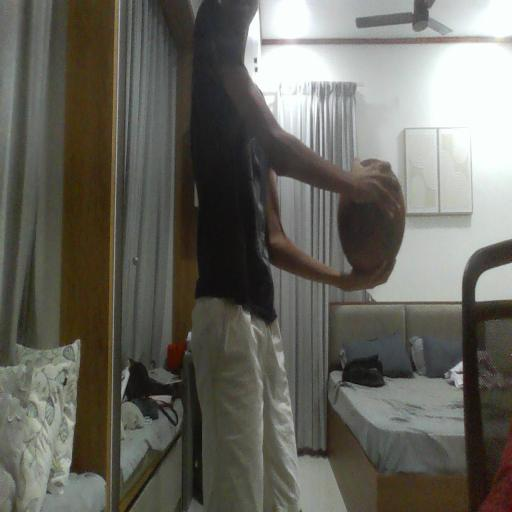basketball: (338, 159, 405, 273)
